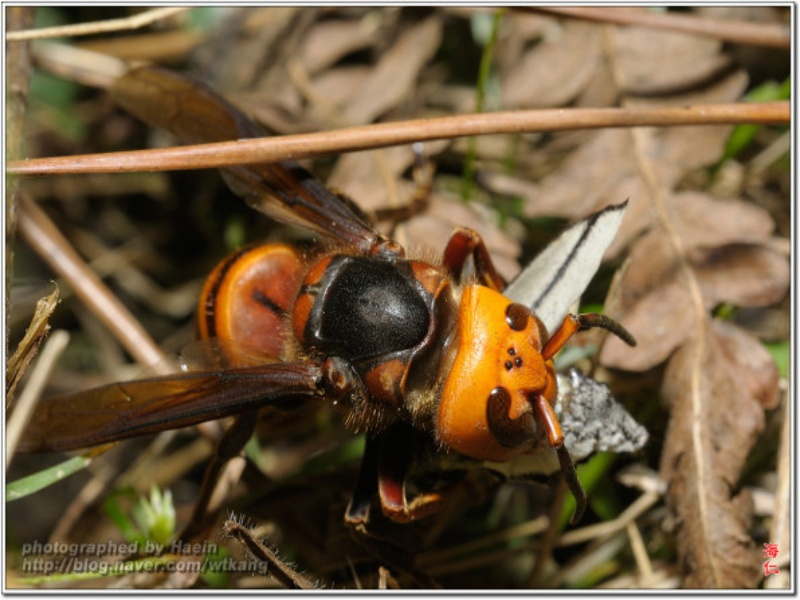asian_giant_hornet: (195, 238, 580, 524)
